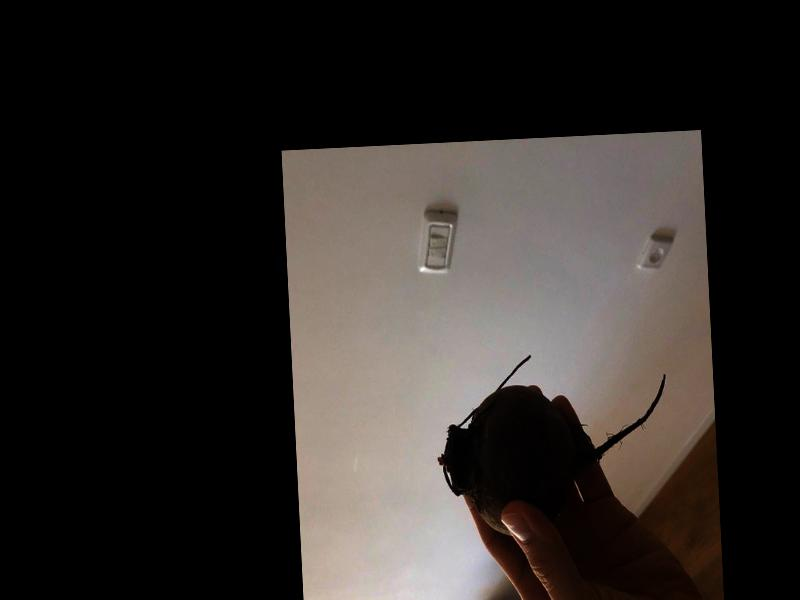Beet: (433, 346, 673, 540)
